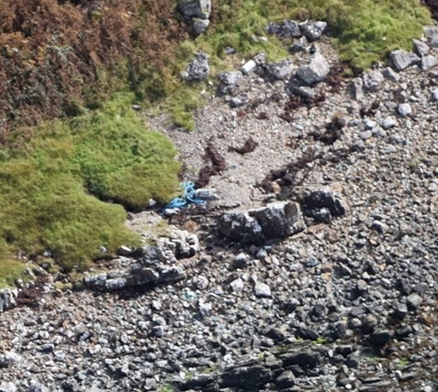net: (162, 174, 208, 211)
